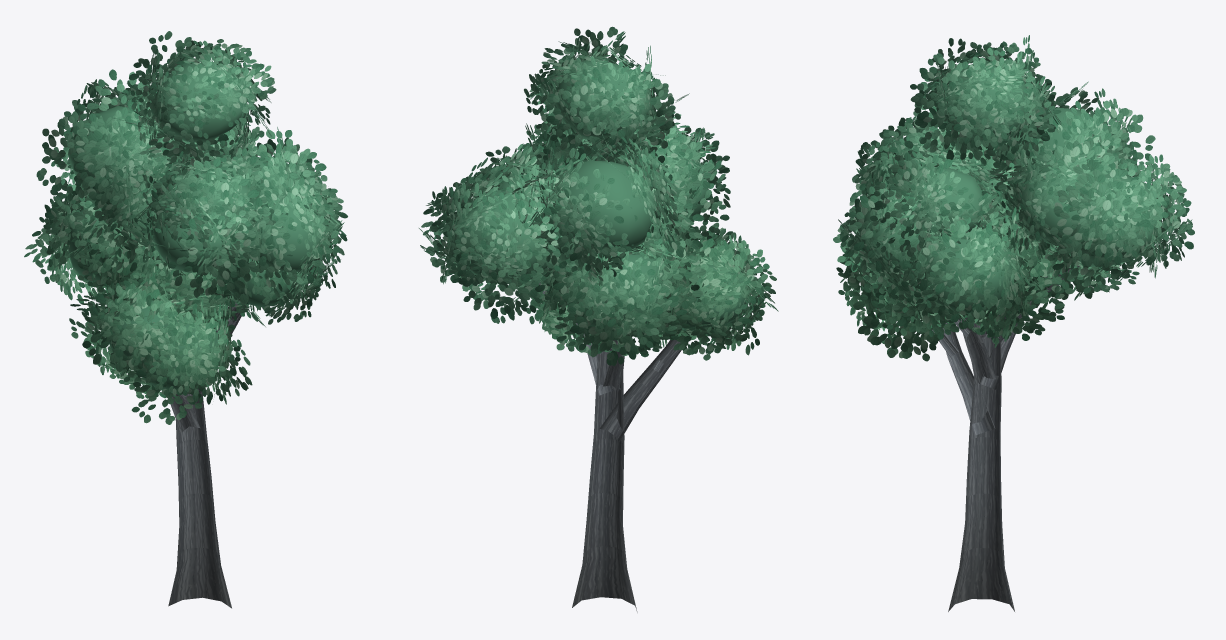
File: tree_ironwood.glb
3 views of the same model, side by side, from view 1: azimuth 30°, elevation 25°; view 2: azimuth 150°, elevation 25°; view 3: azimuth 270°, elevation 25° (orthographic).
Parts seen in each view (by area): view 1: tree_ironwood, tree_ironwood_bark_Ironwood; view 2: tree_ironwood, tree_ironwood_bark_Ironwood; view 3: tree_ironwood, tree_ironwood_bark_Ironwood.
Part boxes in pixels (box(x1,y1,x2,y2)): tree_ironwood: box(24, 31, 347, 424); tree_ironwood_bark_Ironwood: box(168, 300, 245, 608); tree_ironwood: box(419, 26, 778, 365); tree_ironwood_bark_Ironwood: box(535, 267, 689, 612); tree_ironwood: box(833, 35, 1194, 361); tree_ironwood_bark_Ironwood: box(932, 247, 1079, 611).
Size of the model in its own units: 7.08 by 12.69 by 7.62.
3 materials, 2 textured.
